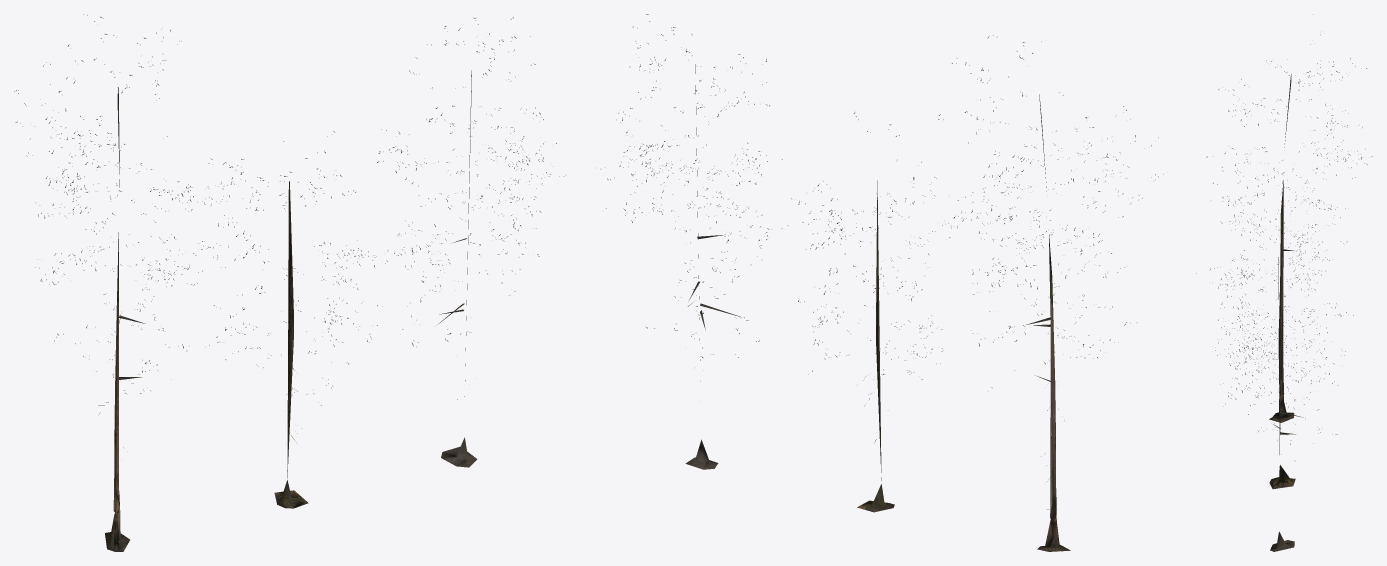
The model's file is pine_tree_01_lod1.glb.
3 views of the same model, side by side, from view 1: azimuth 30°, elevation 25°; view 2: azimuth 150°, elevation 25°; view 3: azimuth 270°, elevation 25° (orthographic). The views are drawn at different scales.
Visible parts, largest first — view 1: pine_tree_01_a_LOD0, pine_tree_01_b_LOD0, pine_tree_01_c_LOD0; view 2: pine_tree_01_a_LOD0, pine_tree_01_b_LOD0, pine_tree_01_c_LOD0; view 3: pine_tree_01_a_LOD0, pine_tree_01_b_LOD0, pine_tree_01_c_LOD0.
Part boxes in pixels (<box>): pine_tree_01_a_LOD0: <box>14,14,229,551</box>; pine_tree_01_b_LOD0: <box>203,131,388,508</box>; pine_tree_01_c_LOD0: <box>377,17,563,467</box>; pine_tree_01_a_LOD0: <box>938,35,1163,551</box>; pine_tree_01_b_LOD0: <box>791,112,950,512</box>; pine_tree_01_c_LOD0: <box>600,14,788,469</box>; pine_tree_01_a_LOD0: <box>1206,14,1372,422</box>; pine_tree_01_b_LOD0: <box>1196,201,1347,489</box>; pine_tree_01_c_LOD0: <box>1215,224,1353,551</box>.
Bounding box in the file's own units: 21.16 × 20.17 × 8.02.
6 materials, 6 textured.
